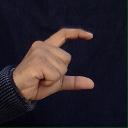hand: (11, 26, 94, 102)
